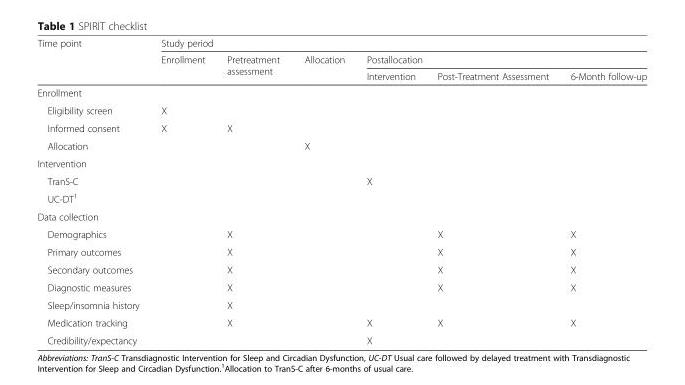table: (36, 36, 646, 345)
table column: (425, 36, 558, 345), (36, 36, 149, 345), (558, 36, 646, 345), (215, 36, 291, 345), (354, 36, 425, 345), (149, 36, 215, 345), (291, 36, 354, 345)
table column header: (36, 36, 646, 84)
table projected row header: (36, 188, 646, 207), (36, 154, 646, 172), (36, 207, 646, 225), (36, 84, 646, 101)
table row: (36, 188, 646, 207), (36, 118, 646, 136), (36, 136, 646, 154), (36, 154, 646, 172), (36, 207, 646, 225), (36, 242, 646, 260), (36, 260, 646, 278), (36, 295, 646, 313), (36, 313, 646, 331), (36, 50, 646, 67), (36, 67, 646, 84), (36, 84, 646, 101), (36, 101, 646, 118), (36, 225, 646, 242), (36, 278, 646, 295), (36, 172, 646, 188), (36, 36, 646, 50), (36, 331, 646, 345)
table spanning cell: (149, 36, 646, 50), (36, 36, 149, 84), (354, 50, 646, 67), (215, 50, 291, 84), (149, 50, 215, 84), (291, 50, 354, 84)
